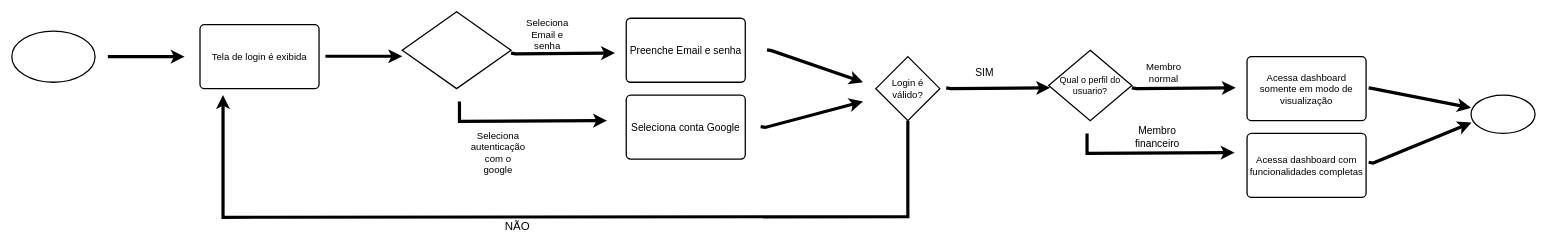
Image size: 1546x246. Some labels were removed from this diagram. The shapes that lost their labels are listed below. From the top down, each one's box as (x1, y1, x2, y2) in pixels, then its label:
(11, 30, 95, 83): Inicio: Usuario acessa o sistema
(401, 11, 511, 89): Como deseja fazer o login
(1470, 94, 1535, 134): FIM
